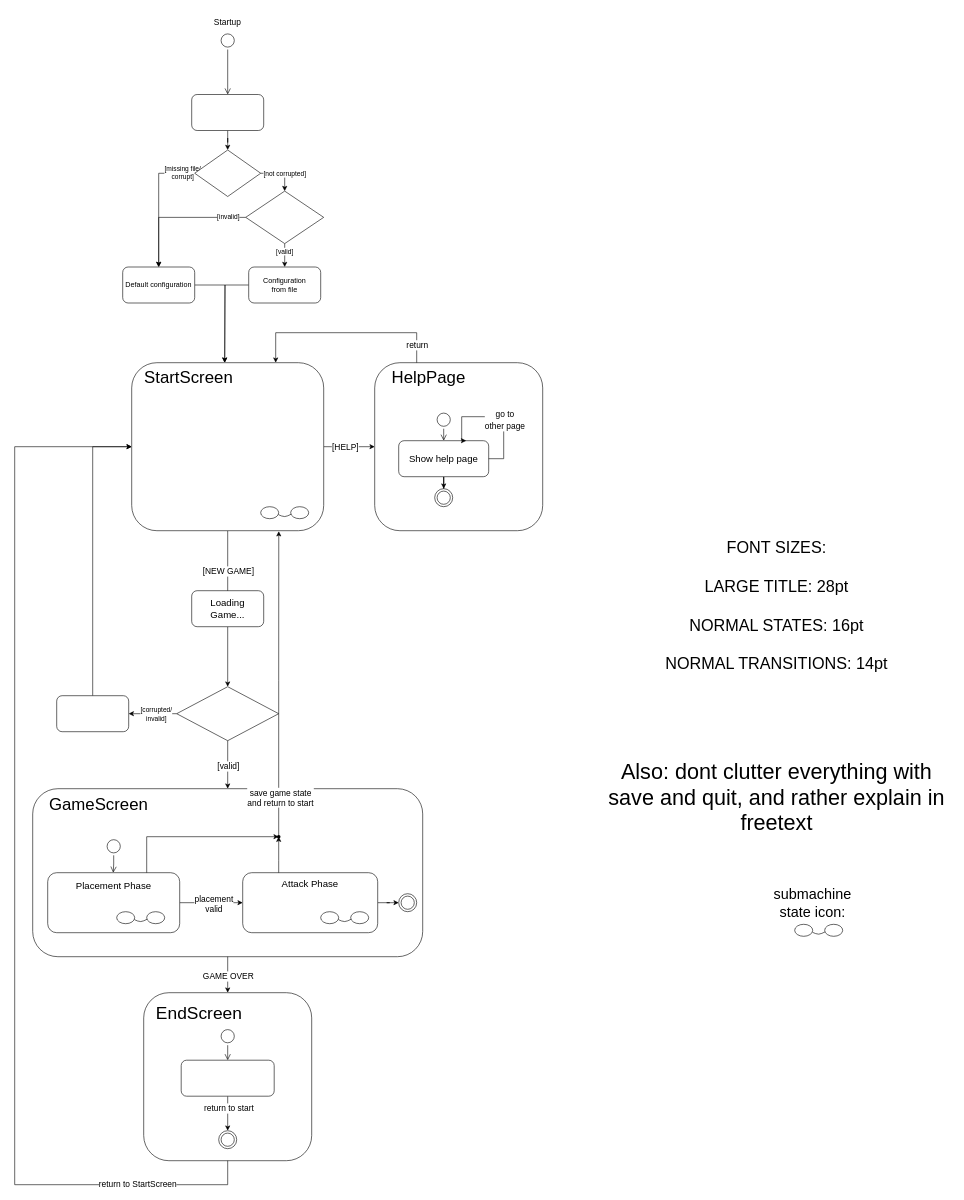
This 964x1200 diagram has some shape labels left out. The shapes that lost their labels are listed below. From the top down, each one's centre as x and y in pixels, then its label:
[227,112]: Loading Configuration from JSON file
[92,713]: error message modal
[227,1078]: Show game stats
